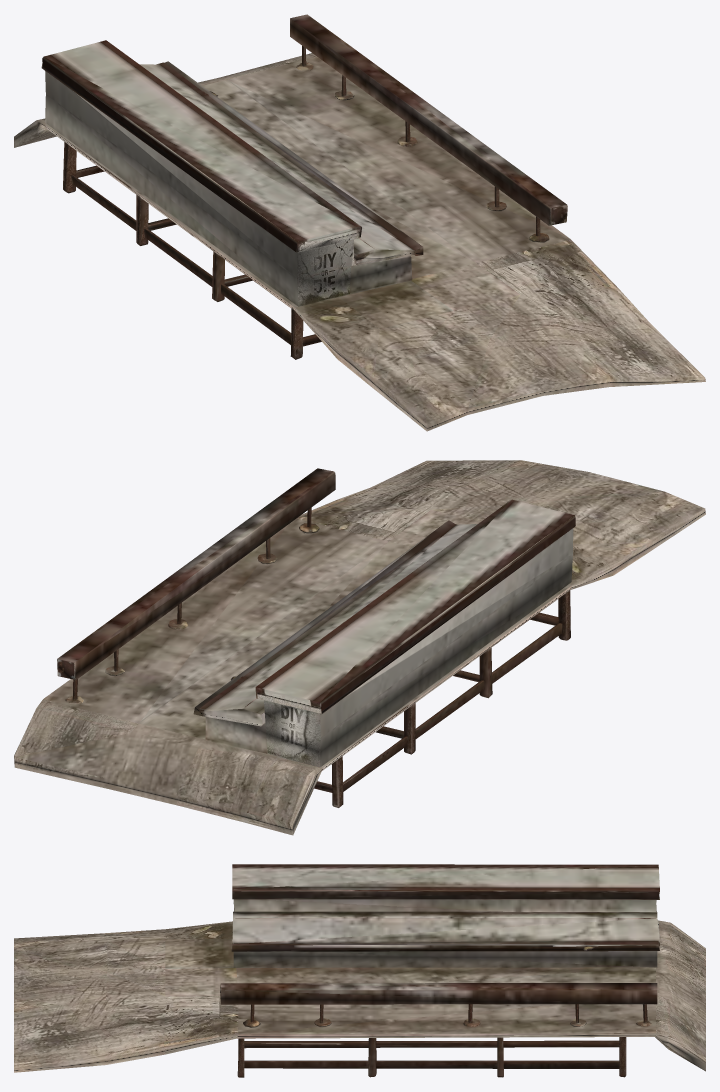
The model's file is skate_ledge.glb.
The picture shows the model from 3 angles, top to bottom: view 1: azimuth 30°, elevation 25°; view 2: azimuth 150°, elevation 25°; view 3: azimuth 270°, elevation 25°; orthographic projection. The views are drawn at different scales.
Visible parts, largest first — view 1: mesh_node; view 2: mesh_node; view 3: mesh_node.
Part boxes in pixels (<box>): mesh_node: <box>14,14,705,431</box>; mesh_node: <box>14,460,705,835</box>; mesh_node: <box>14,864,705,1077</box>.
Size of the model in its own units: 0.3926 by 0.1626 by 1.
Materials: 1 (1 with a texture image).
